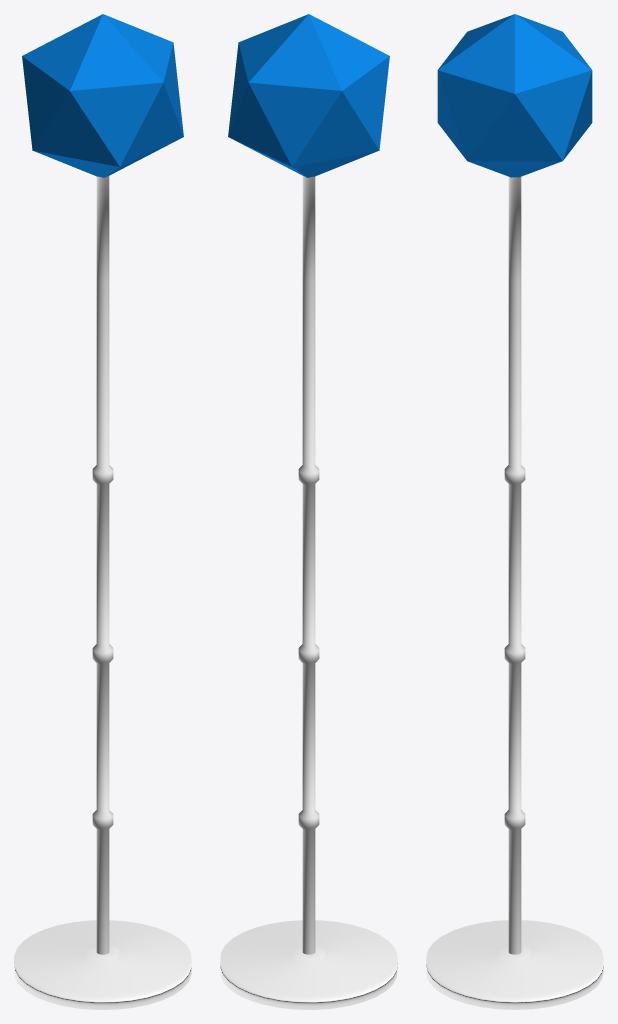
File: Disc swing 8ft.glb
The picture shows the model from 3 angles, left to right: view 1: azimuth 30°, elevation 25°; view 2: azimuth 150°, elevation 25°; view 3: azimuth 270°, elevation 25°; orthographic projection.
Visible parts, largest first — view 1: Joint.040, Cylinder.015, Cylinder.014; view 2: Joint.040, Cylinder.015, Cylinder.014; view 3: Joint.040, Cylinder.015, Cylinder.014.
Boxes of the visible parts, x1=… form: Joint.040: x1=22, y1=14, x2=183, y2=177; Cylinder.015: x1=14, y1=920, x2=191, y2=1009; Cylinder.014: x1=92, y1=176, x2=113, y2=954; Joint.040: x1=228, y1=14, x2=389, y2=177; Cylinder.015: x1=220, y1=920, x2=397, y2=1009; Cylinder.014: x1=298, y1=176, x2=319, y2=954; Joint.040: x1=437, y1=14, x2=592, y2=177; Cylinder.015: x1=426, y1=920, x2=603, y2=1009; Cylinder.014: x1=504, y1=177, x2=525, y2=954.
Size of the model in its own units: 0.2972 by 1.77 by 0.2972.
